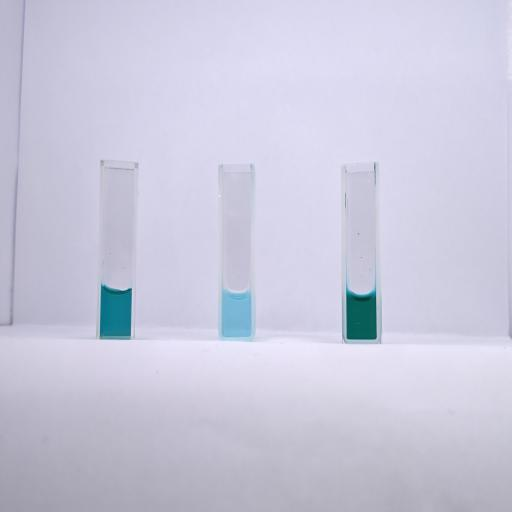cuvette: (339, 160, 384, 346), (95, 159, 140, 339), (216, 162, 257, 341)
liquid: (100, 286, 132, 336), (222, 288, 252, 338), (346, 292, 376, 339)
